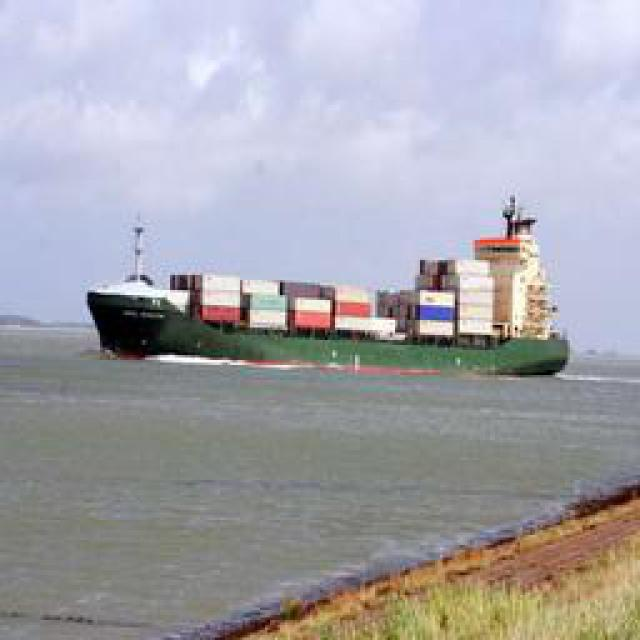Ship: (86, 222, 566, 360)
